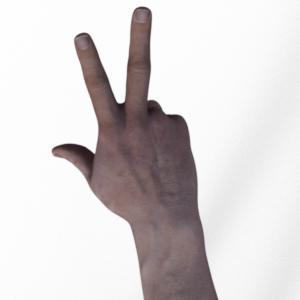scissors: (52, 8, 218, 300)
